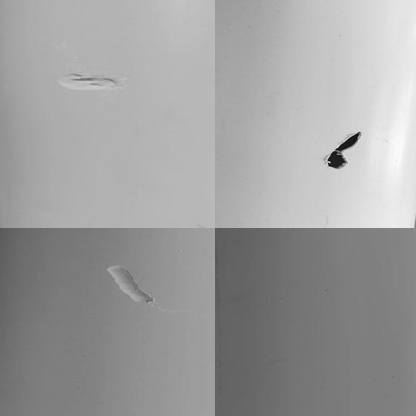kongdong: (322, 130, 363, 172)
sunshang: (104, 261, 155, 308), (55, 67, 120, 94)
